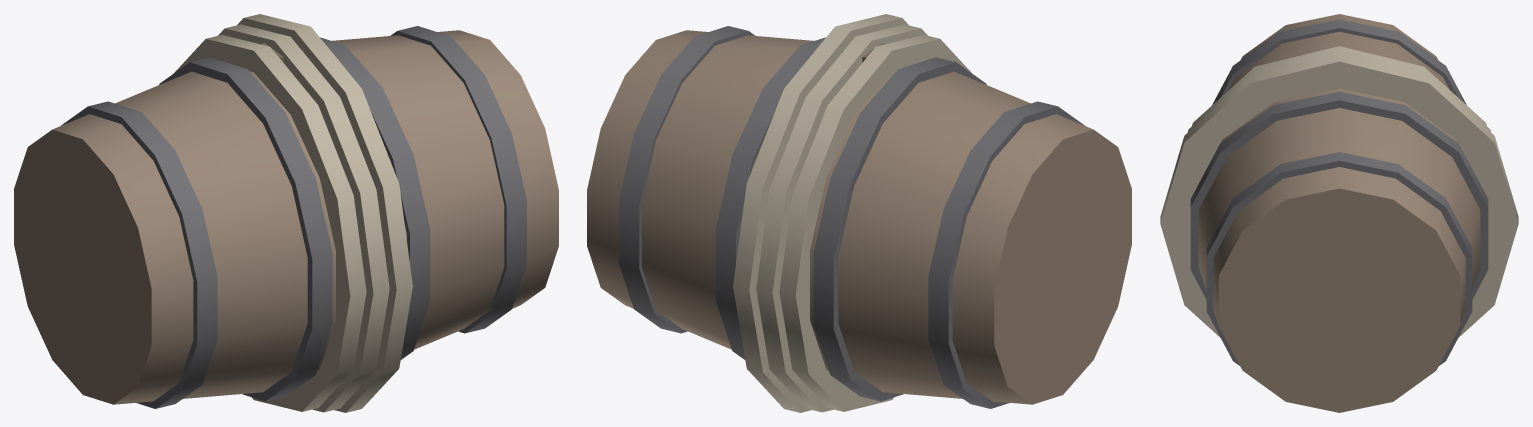
File: flotsam_barrel.gltf
The picture shows the model from 3 angles, left to right: view 1: azimuth 30°, elevation 25°; view 2: azimuth 150°, elevation 25°; view 3: azimuth 270°, elevation 25°; orthographic projection. The views are drawn at different scales.
Visible parts, largest first — view 1: Body; view 2: Body; view 3: Body.
Boxes of the visible parts, bbox=[...] form: Body: bbox=[14, 14, 558, 412]; Body: bbox=[587, 14, 1131, 412]; Body: bbox=[1160, 14, 1518, 412].
Bounding box in the file's own units: 1 × 0.868 × 0.868.
